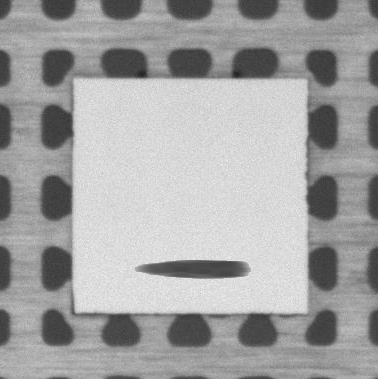DIE_INK: (133, 255, 257, 284)
